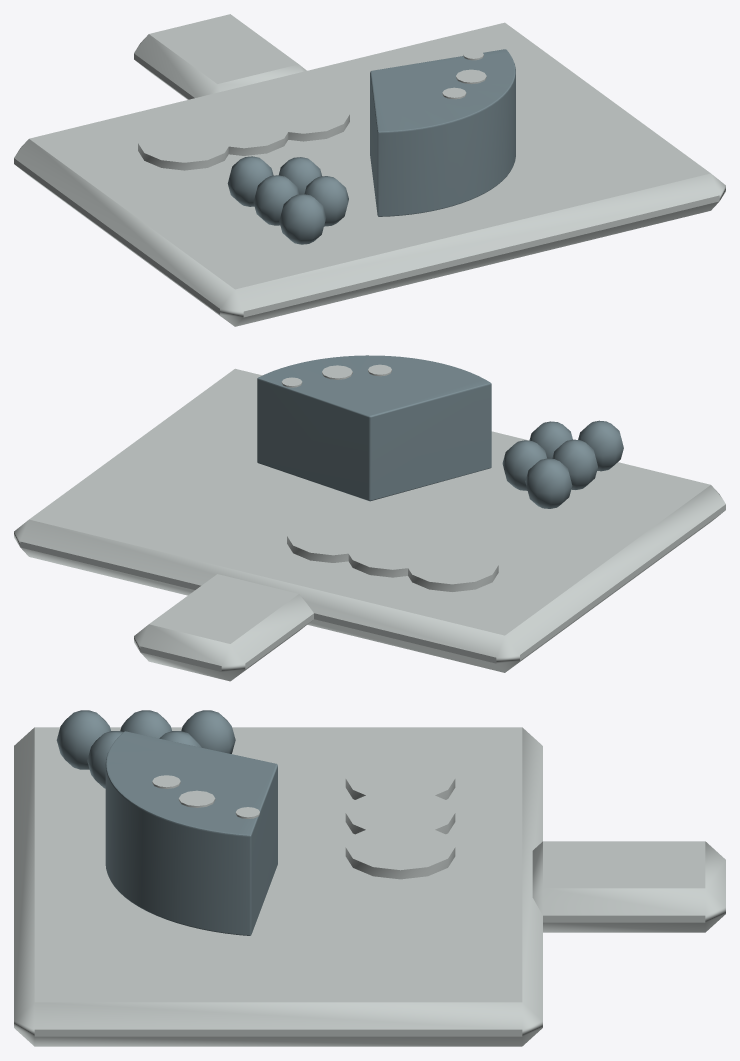
File: cheese-board.glb
3 views of the same model, one above another, from view 1: azimuth 30°, elevation 25°; view 2: azimuth 150°, elevation 25°; view 3: azimuth 270°, elevation 25° (orthographic). The views are drawn at different scales.
Parts seen in each view (by area): view 1: board, cheese_wedge, handle, cracker.001, cracker, cracker.002, grape.004, grape.002, grape, grape.003, grape.001; view 2: board, cheese_wedge, handle, cracker, cracker.002, cracker.001, grape, grape.002, grape.004, grape.001, grape.003; view 3: board, cheese_wedge, handle, cracker.002, cracker, cracker.001, grape.004, grape, grape.002, grape.003.
Boxes of the visible parts, x1,y1,x2,y2 form: board: (14,22,725,326); cheese_wedge: (370,49,515,216); handle: (134,14,306,99); cracker.001: (199,109,290,155); cracker: (138,123,228,170); cracker.002: (259,94,349,141); grape.004: (279,194,326,244); grape.002: (253,175,299,225); grape: (227,156,273,206); grape.003: (304,176,348,226); grape.001: (279,157,321,194); board: (14,368,725,672); cheese_wedge: (257,355,491,501); handle: (134,574,313,681); cracker: (406,545,498,591); cracker.002: (287,516,377,562); cracker.001: (346,530,436,577); grape: (525,458,572,508); grape.002: (552,439,597,489); grape.004: (578,420,623,471); grape.001: (502,440,546,490); grape.003: (529,421,572,458); board: (14,727,542,1046); cheese_wedge: (105,731,277,935); handle: (532,841,725,932); cracker.002: (345,824,455,879); cracker: (345,755,455,801); cracker.001: (345,789,455,835); grape.004: (56,710,110,769); grape: (181,710,235,753); grape.002: (120,710,171,738); grape.003: (87,731,123,788).
Bounding box in the file's own units: 0.34 × 0.081 × 0.35.
